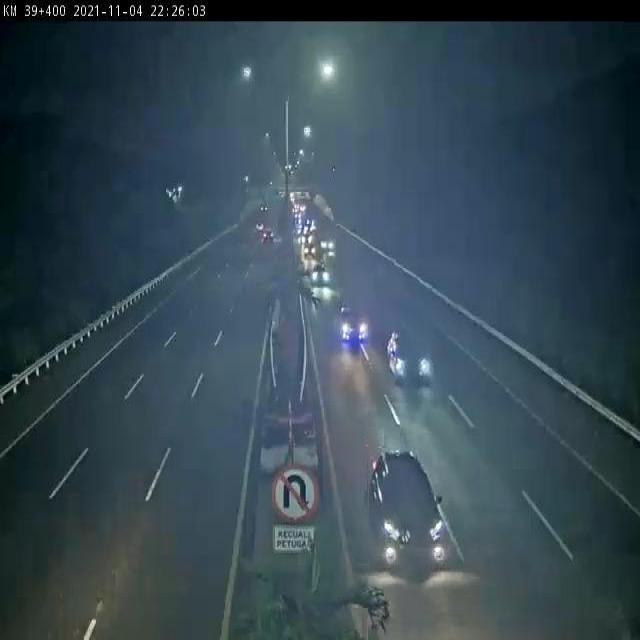car: (365, 432, 463, 581), (384, 317, 438, 392), (333, 297, 374, 352), (313, 263, 328, 289)
